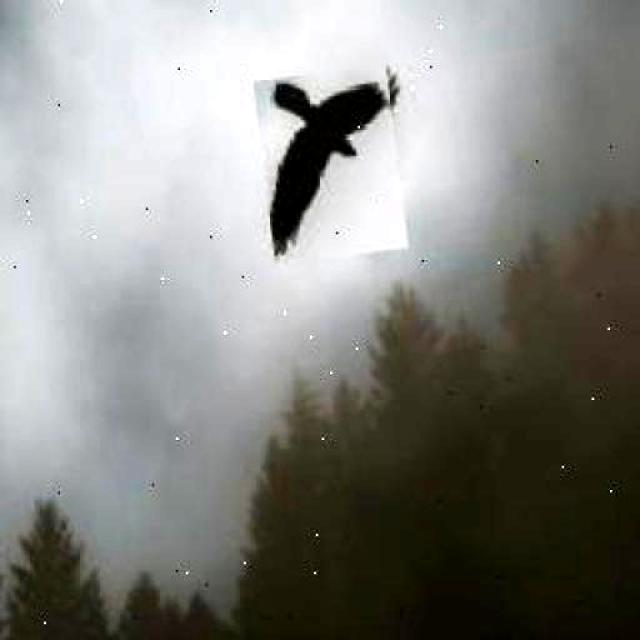airplane: (252, 64, 409, 264)
